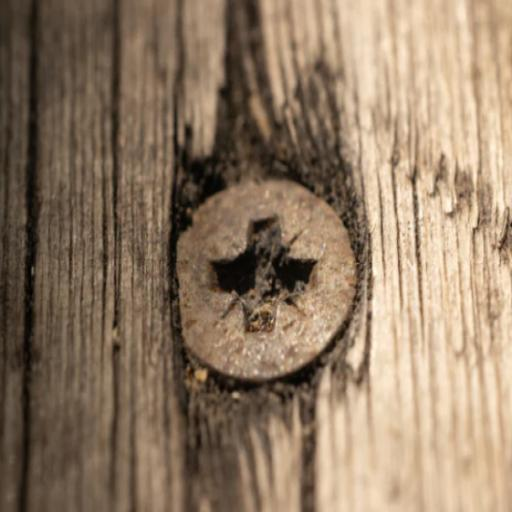Phillips: (171, 172, 363, 385)
